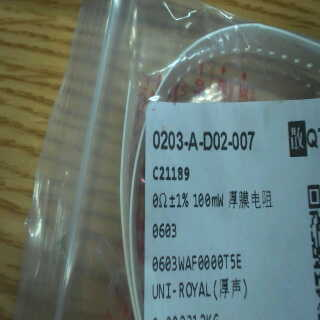0R: (149, 186, 229, 247)
